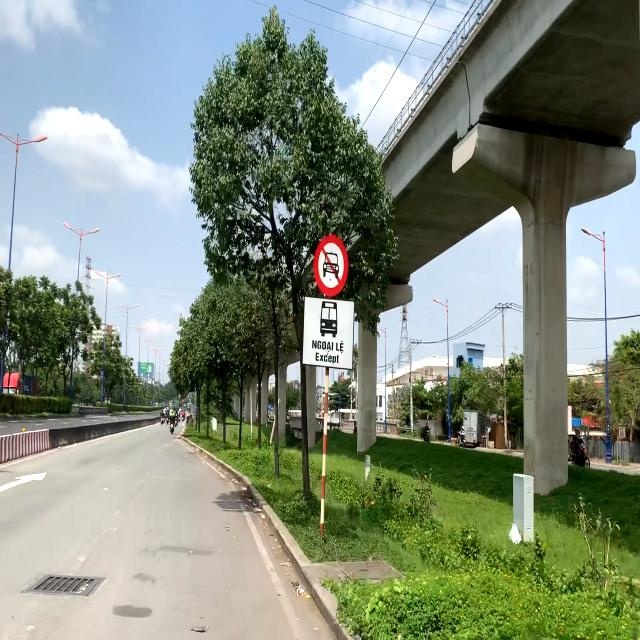bien_cam: (312, 235, 352, 302)
